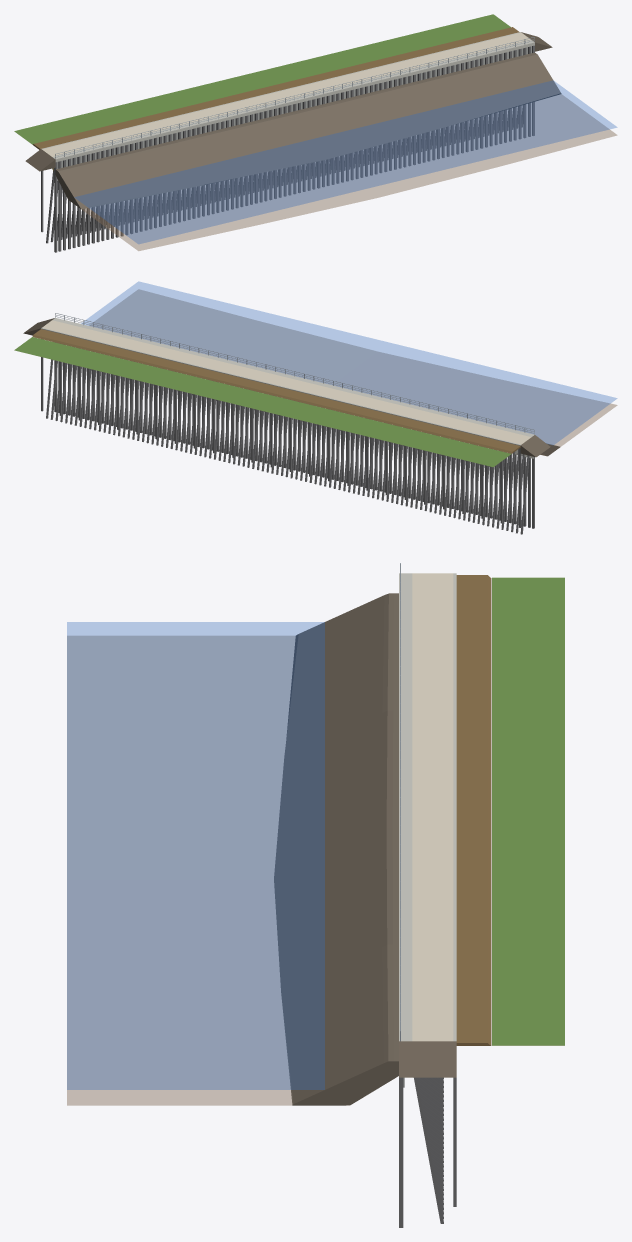
3 views of the same model, one above another, from view 1: azimuth 30°, elevation 25°; view 2: azimuth 150°, elevation 25°; view 3: azimuth 270°, elevation 25° (orthographic). The views are drawn at different scales.
Visible parts, largest first — view 1: ระดับน้ำต่ำสุดเฉลี่ย, ผิวดินเดิม (จากรูปตัดสำรวจ), พื้นดินหลังเขื่อน, ทิ้งหินใหญ่ตีนเขื่อน 50-75, ทิ้งหินใหญ่ตีนเขื่อน 25-50, ทิ้งหินใหญ่ตีนเขื่อน 0-25, ทิ้งหินใหญ่ตีนเขื่อน 75-100, พื้นทางเท้า ค.ส.ล. S05, พื้นทางเท้า ค.ส.ล. S07, พื้นทางเท้า ค.ส.ล. S10, พื้นทางเท้า ค.ส.ล. S02, พื้นทางเท้า ค.ส.ล. S03 (+17 smaller); view 2: ระดับน้ำต่ำสุดเฉลี่ย, ผิวดินเดิม (จากรูปตัดสำรวจ), พื้นดินหลังเขื่อน, ถมดินเหนียวบดอัด 0.30 ม. ปลูกหญ้า S01, พื้นทางเท้า ค.ส.ล. S01, พื้นทางเท้า ค.ส.ล. S04, พื้นทางเท้า ค.ส.ล. S07, พื้นทางเท้า ค.ส.ล. S08, พื้นทางเท้า ค.ส.ล. S02, พื้นทางเท้า ค.ส.ล. S03, พื้นทางเท้า ค.ส.ล. S10, พื้นทางเท้า ค.ส.ล. S09 (+12 smaller); view 3: ระดับน้ำต่ำสุดเฉลี่ย, ผิวดินเดิม (จากรูปตัดสำรวจ), พื้นดินหลังเขื่อน, ทิ้งหินใหญ่ตีนเขื่อน 75-100, ทิ้งหินใหญ่ตีนเขื่อน 50-75, ทิ้งหินใหญ่ตีนเขื่อน 25-50, ทิ้งหินใหญ่ตีนเขื่อน 0-25, ทิ้งหินใหญ่ปิดหัว-ท้ายเขื่อน ท้าย, พื้นทางเท้า ค.ส.ล. S01, พื้นทางเท้า ค.ส.ล. S04, พื้นทางเท้า ค.ส.ล. S06, พื้นทางเท้า ค.ส.ล. S09 (+16 smaller).
Boxes of the visible parts, left/top/right/bottom form: ระดับน้ำต่ำสุดเฉลี่ย: left=74, top=80, right=617, bottom=243; ผิวดินเดิม (จากรูปตัดสำรวจ): left=82, top=94, right=617, bottom=250; พื้นดินหลังเขื่อน: left=14, top=14, right=510, bottom=144; ทิ้งหินใหญ่ตีนเขื่อน 50-75: left=295, top=82, right=444, bottom=159; ทิ้งหินใหญ่ตีนเขื่อน 25-50: left=175, top=111, right=325, bottom=184; ทิ้งหินใหญ่ตีนเขื่อน 0-25: left=55, top=140, right=203, bottom=209; ทิ้งหินใหญ่ตีนเขื่อน 75-100: left=415, top=52, right=561, bottom=126; พื้นทางเท้า ค.ส.ล. S05: left=234, top=91, right=291, bottom=109; พื้นทางเท้า ค.ส.ล. S07: left=330, top=67, right=387, bottom=86; พื้นทางเท้า ค.ส.ล. S10: left=473, top=32, right=530, bottom=51; พื้นทางเท้า ค.ส.ล. S02: left=90, top=126, right=147, bottom=145; พื้นทางเท้า ค.ส.ล. S03: left=138, top=114, right=195, bottom=133; ระดับน้ำต่ำสุดเฉลี่ย: left=81, top=281, right=617, bottom=445; ผิวดินเดิม (จากรูปตัดสำรวจ): left=37, top=289, right=617, bottom=456; พื้นดินหลังเขื่อน: left=14, top=337, right=510, bottom=467; ถมดินเหนียวบดอัด 0.30 ม. ปลูกหญ้า S01: left=464, top=434, right=520, bottom=453; พื้นทางเท้า ค.ส.ล. S01: left=474, top=425, right=531, bottom=444; พื้นทางเท้า ค.ส.ล. S04: left=330, top=390, right=387, bottom=409; พื้นทางเท้า ค.ส.ล. S07: left=186, top=355, right=243, bottom=374; พื้นทางเท้า ค.ส.ล. S08: left=138, top=343, right=195, bottom=362; พื้นทางเท้า ค.ส.ล. S02: left=426, top=414, right=483, bottom=432; พื้นทางเท้า ค.ส.ล. S03: left=378, top=402, right=435, bottom=421; พื้นทางเท้า ค.ส.ล. S10: left=42, top=320, right=99, bottom=339; พื้นทางเท้า ค.ส.ล. S09: left=90, top=332, right=147, bottom=350; ระดับน้ำต่ำสุดเฉลี่ย: left=67, top=622, right=324, bottom=1089; ผิวดินเดิม (จากรูปตัดสำรวจ): left=67, top=578, right=564, bottom=1105; พื้นดินหลังเขื่อน: left=492, top=577, right=564, bottom=1045; ทิ้งหินใหญ่ตีนเขื่อน 75-100: left=281, top=944, right=398, bottom=1105; ทิ้งหินใหญ่ตีนเขื่อน 50-75: left=274, top=827, right=398, bottom=992; ทิ้งหินใหญ่ตีนเขื่อน 25-50: left=274, top=710, right=398, bottom=878; ทิ้งหินใหญ่ตีนเขื่อน 0-25: left=284, top=593, right=398, bottom=756; ทิ้งหินใหญ่ปิดหัว-ท้ายเขื่อน ท้าย: left=399, top=1041, right=456, bottom=1077; พื้นทางเท้า ค.ส.ล. S01: left=412, top=573, right=453, bottom=620; พื้นทางเท้า ค.ส.ล. S04: left=412, top=713, right=453, bottom=760; พื้นทางเท้า ค.ส.ล. S06: left=412, top=807, right=453, bottom=854; พื้นทางเท้า ค.ส.ล. S09: left=412, top=947, right=453, bottom=994.
Bounding box in the file's own units: 107 × 19.64 × 45.
